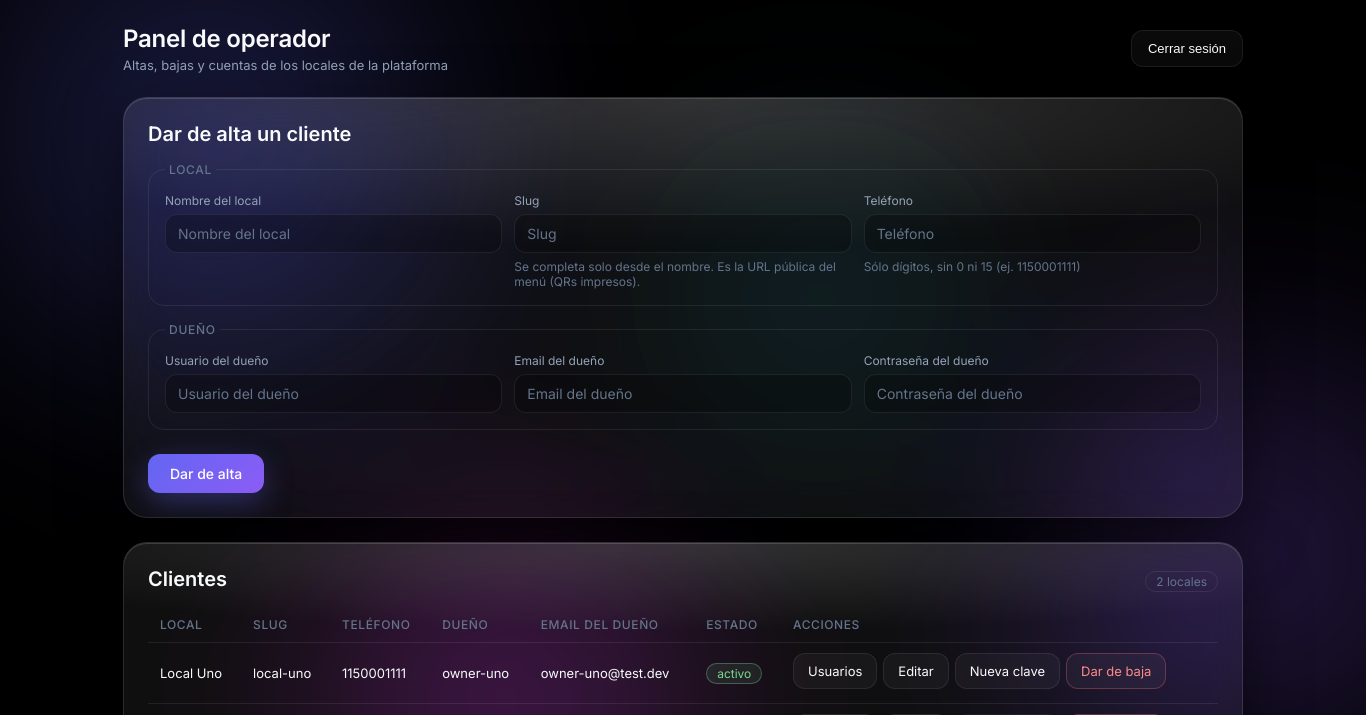
Test case: platform operator view › shows the backend legible error inline when the alta fails (duplicate slug)
The image size is (1366, 715).
Step 1. Type "Otro" into the field with placeholder "Nombre del local" → (334, 234), box [165,214,502,253]
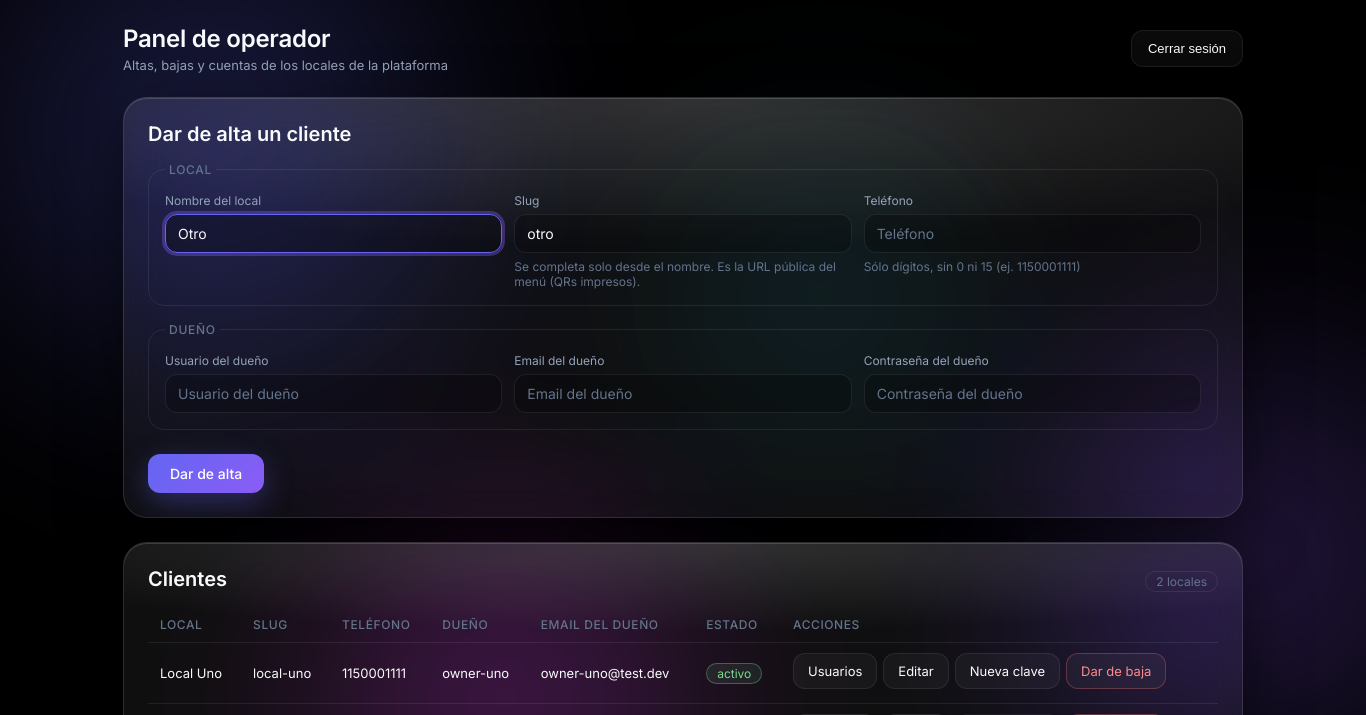
Step 2. Type "local-uno" into the field with placeholder "Slug" → (683, 234), box [514,214,852,253]
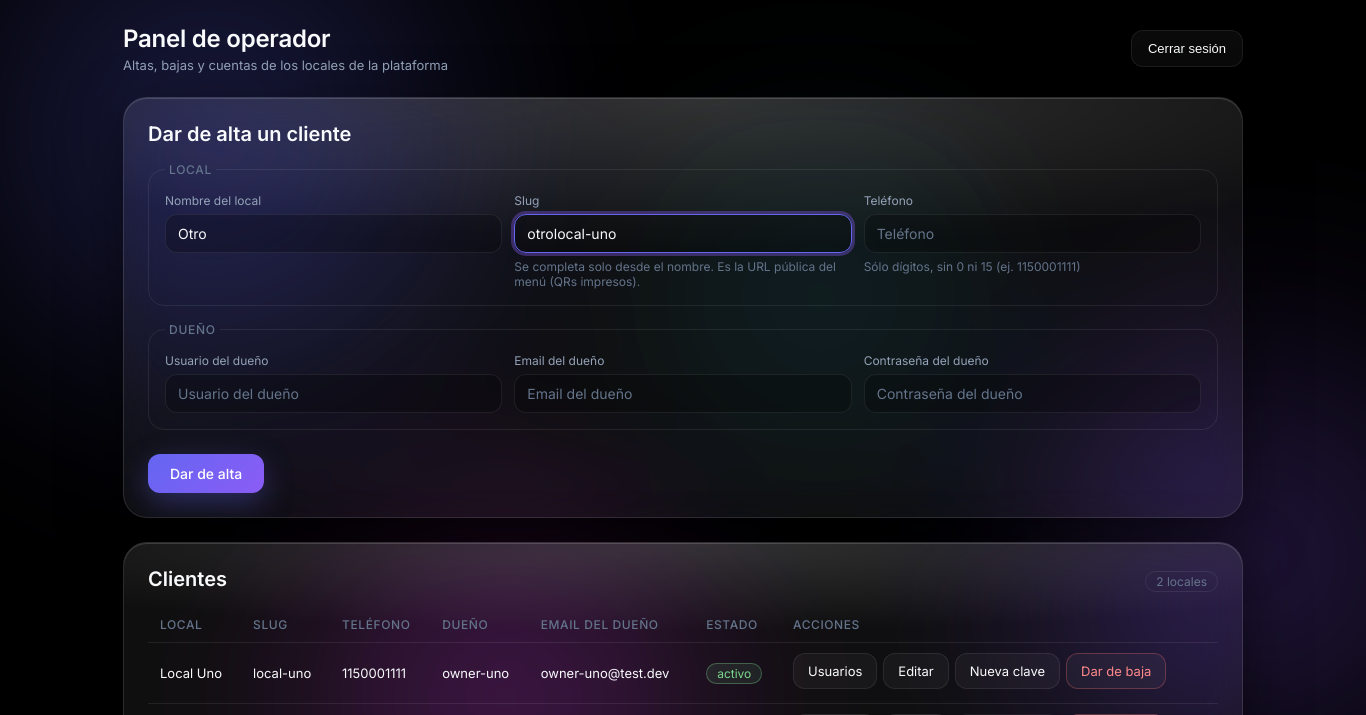
Step 3. Type "owner-x" into the field with placeholder "Usuario del dueño" → (334, 394), box [165,374,502,413]
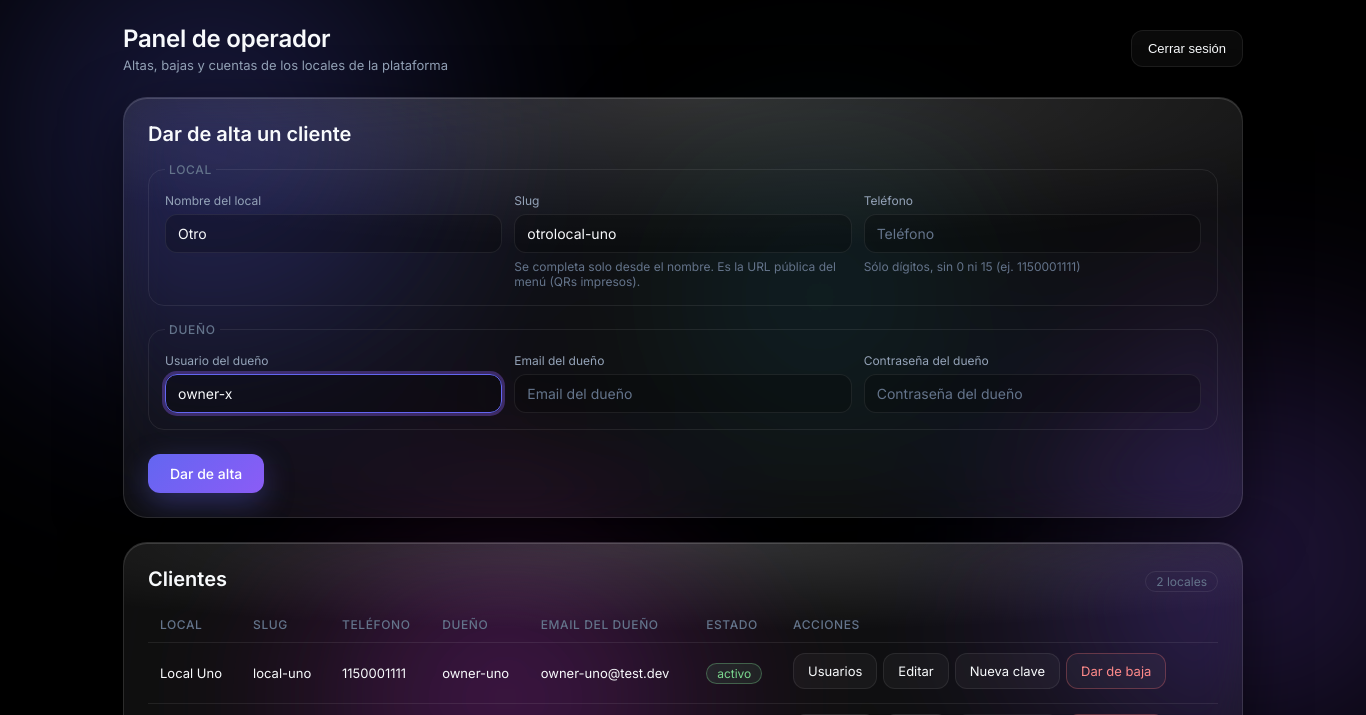
Step 4. Type "owner-x@test.dev" into the field with placeholder "Email del dueño" → (683, 394), box [514,374,852,413]
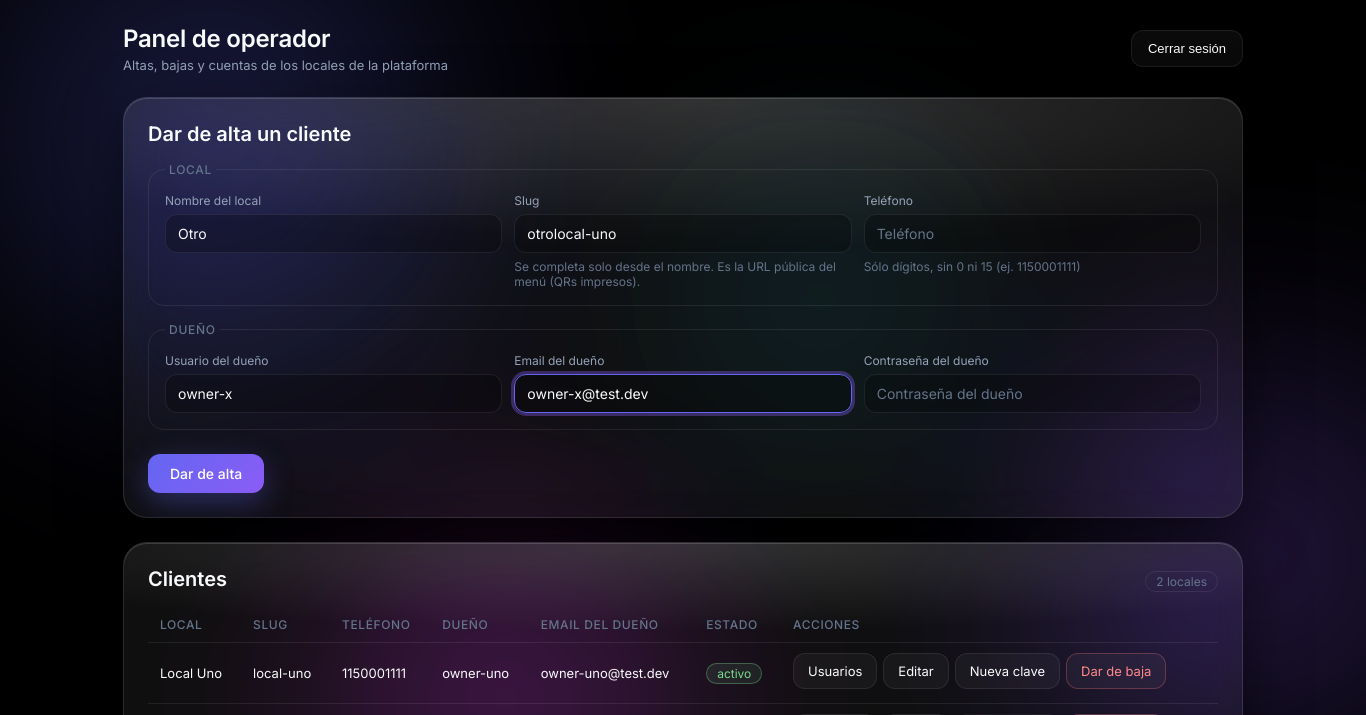
Step 5. Type "client-pass-123" into the password field with placeholder "Contraseña del dueño" → (1032, 394), box [864,374,1201,413]
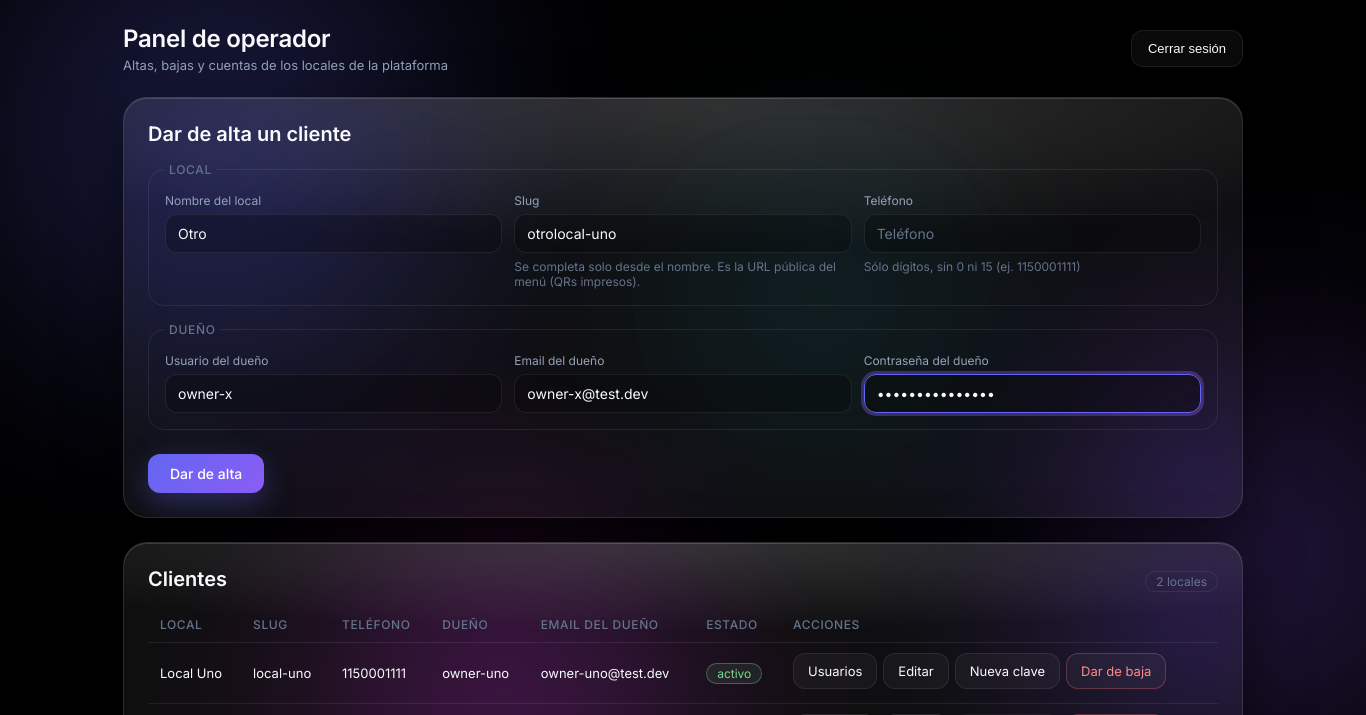
Step 6. Click the button "Dar de alta" → (206, 474), box [148,454,264,493]
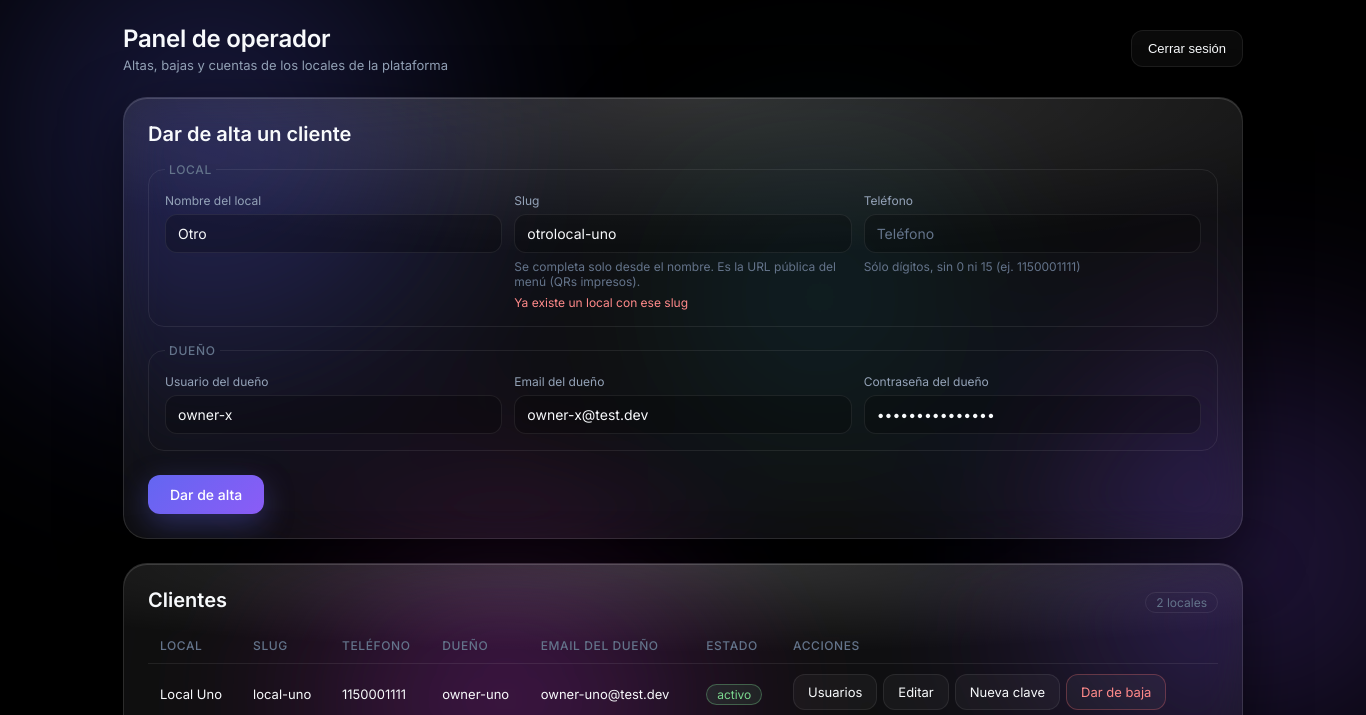
Expected: the message reads "Ya existe un local con ese slug", [514,295,688,310]
